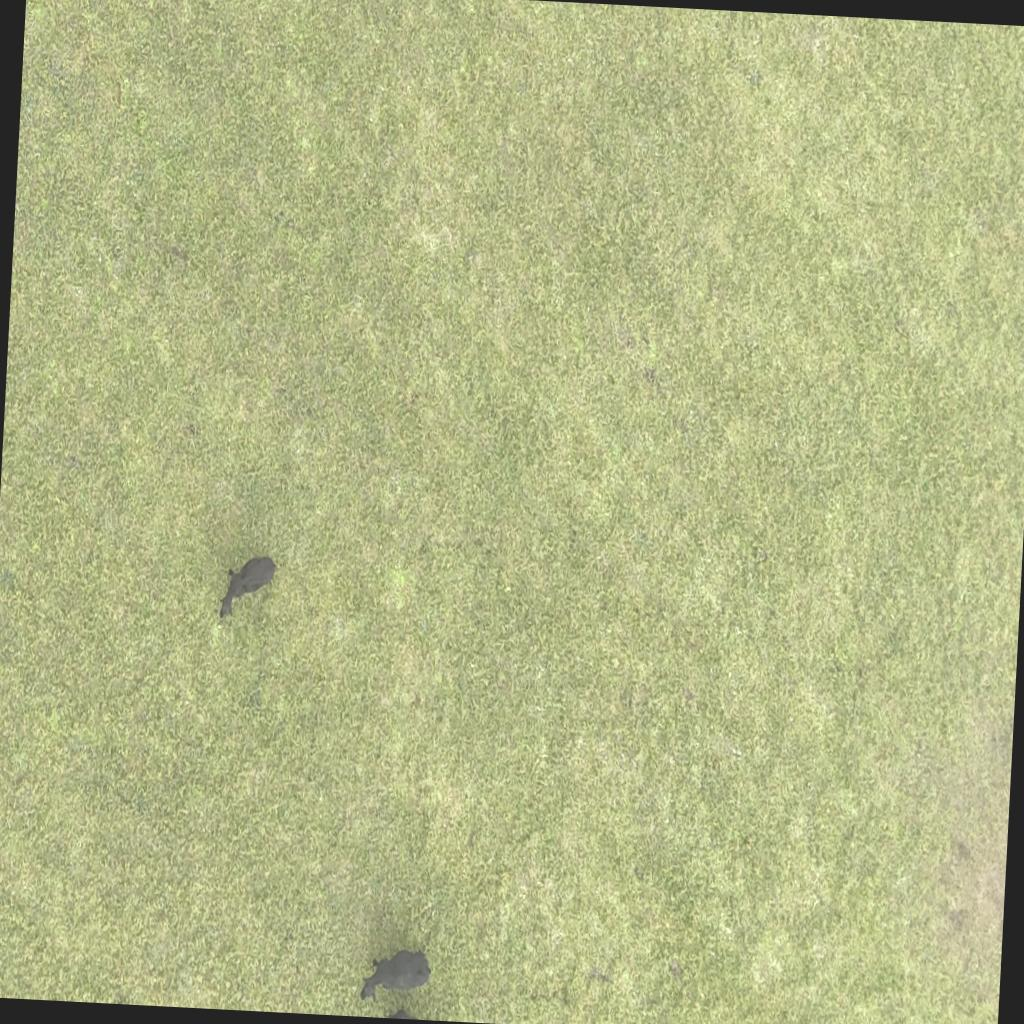cow: (354, 942, 434, 1020), (217, 552, 277, 628)
